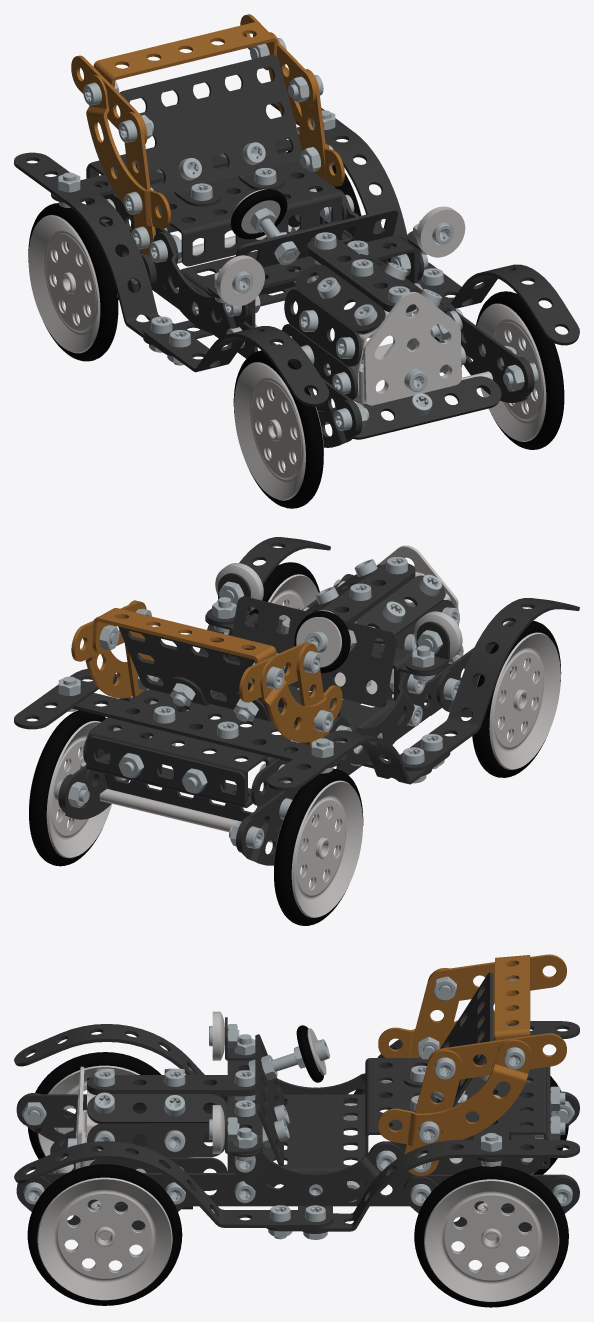
3 views of the same model, one above another, from view 1: azimuth 30°, elevation 25°; view 2: azimuth 150°, elevation 25°; view 3: azimuth 270°, elevation 25° (orthographic). The views are drawn at different scales.
Parts seen in each view (by area): view 1: Těleso1_n3d (×35), Těleso2_n3d (×2); view 2: Těleso1_n3d (×41), Těleso2_n3d (×2); view 3: Těleso1_n3d (×40), Těleso2_n3d (×2).
Part boxes in pixels (bbox=[...]): Těleso1_n3d (×35): bbox=[14, 14, 579, 508]; Těleso2_n3d (×2): bbox=[216, 206, 465, 306]; Těleso1_n3d (×41): bbox=[14, 537, 579, 925]; Těleso2_n3d (×2): bbox=[215, 563, 462, 659]; Těleso1_n3d (×40): bbox=[14, 954, 579, 1307]; Těleso2_n3d (×2): bbox=[212, 1011, 224, 1153].
Size of the model in its own units: 0.0901 by 0.0808 by 0.161.
